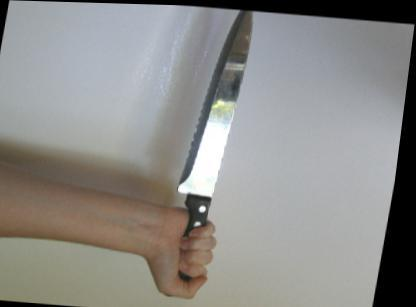knife: (166, 5, 262, 272)
